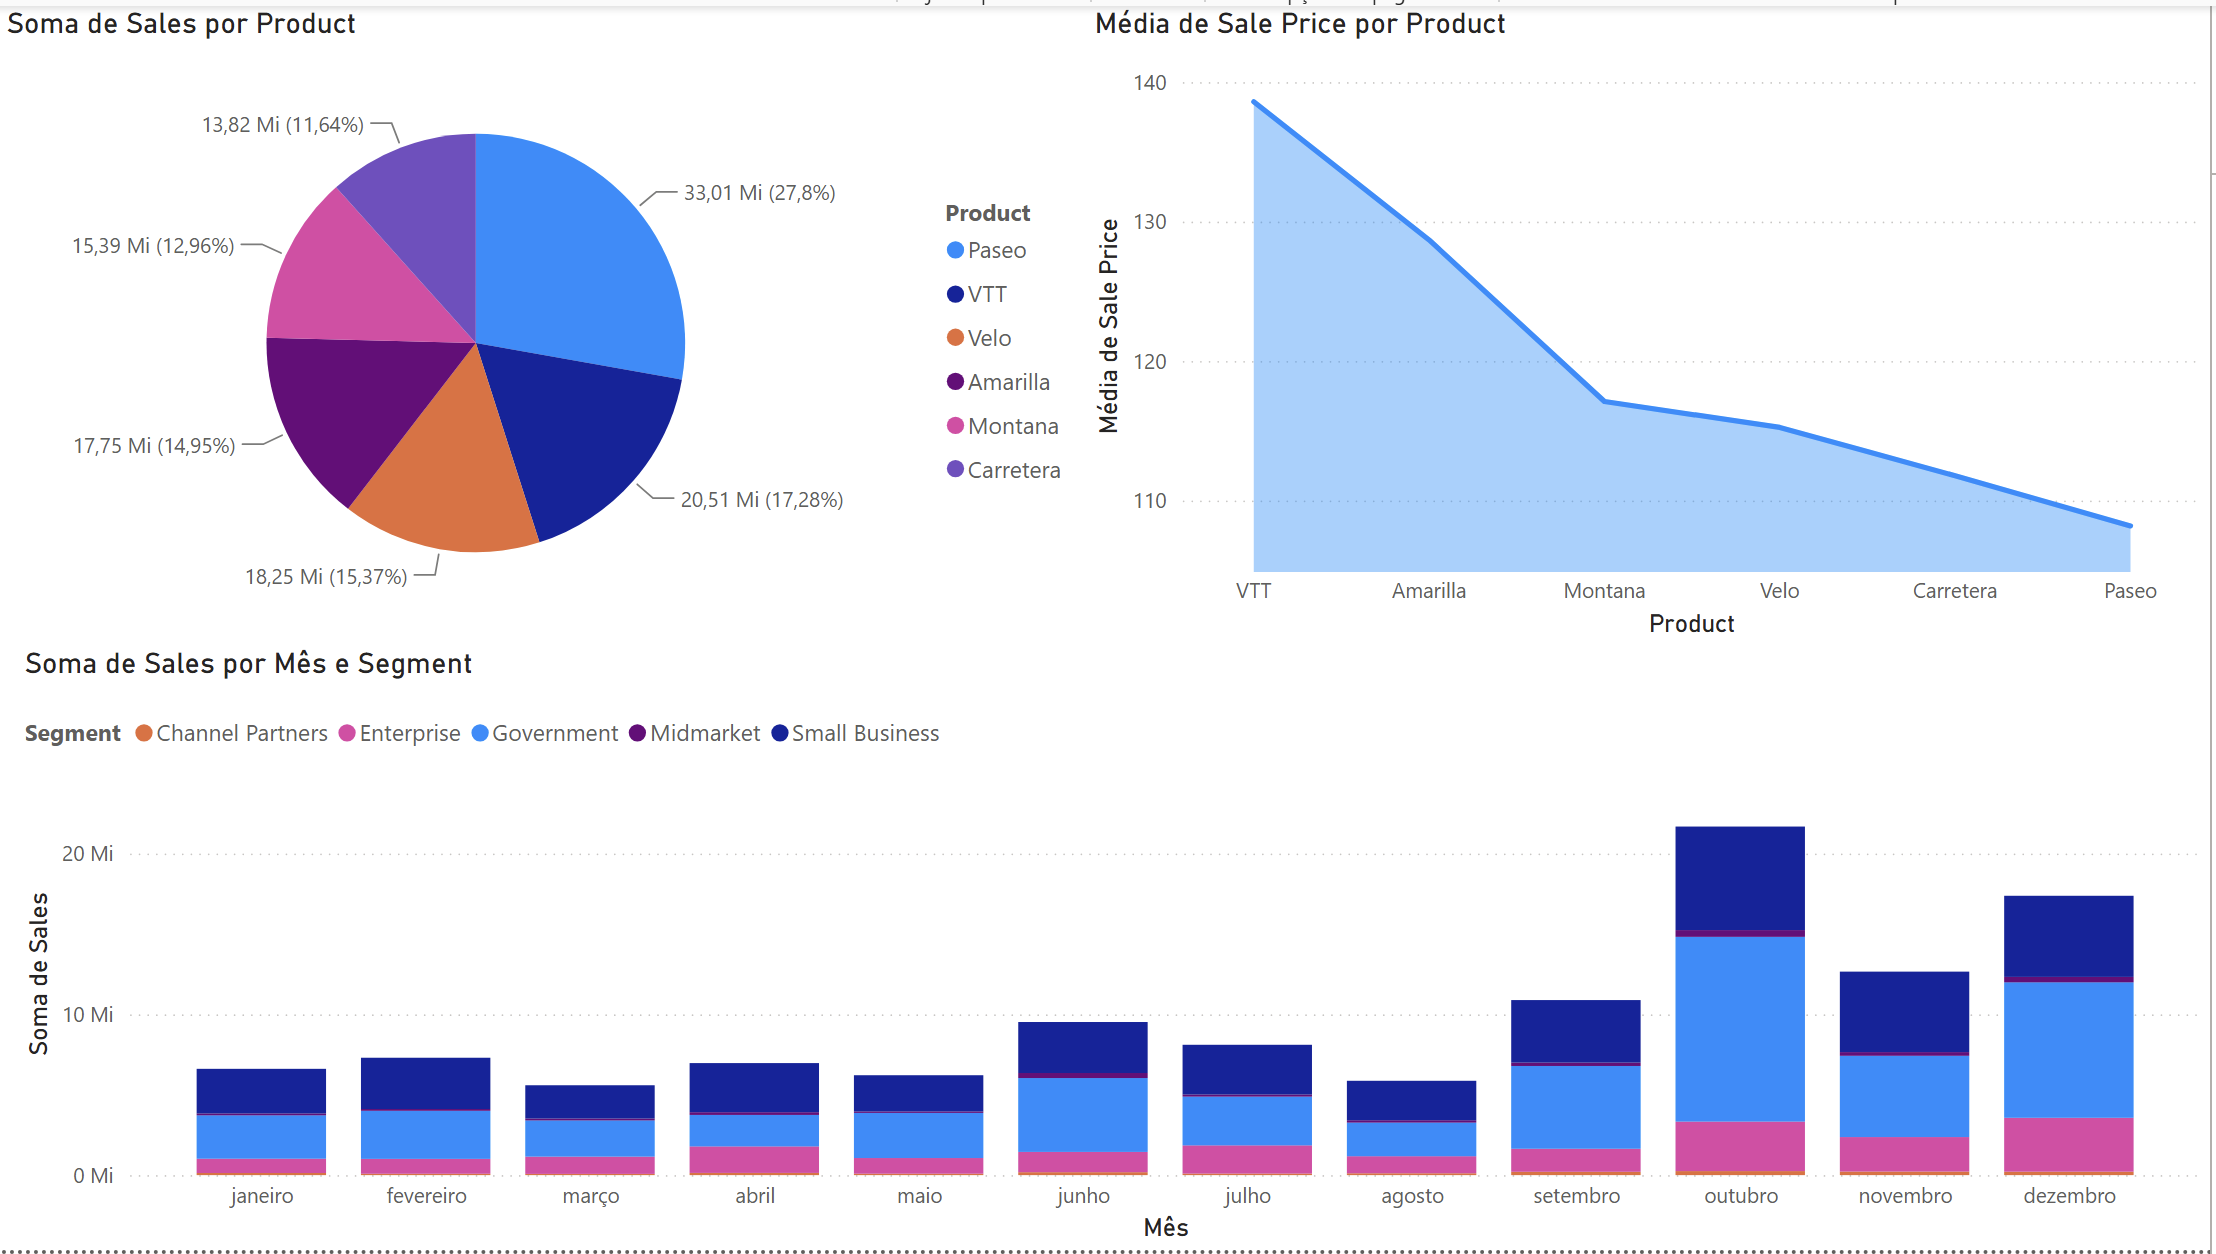

This screenshot's page, from the dashboard's own definition file:
{"tool":"powerbi","page":{"name":"Página 1","canvas":[1280,720],"ordinal":0},"visuals":[{"type":"pieChart","fields":{"Category":["financials.Product"],"Y":["Sum(financials. Sales)"]},"box":[0,0,630,360],"z":0},{"type":"areaChart","fields":{"Category":["financials.Product"],"Y":["Avg(financials.Sale Price)"]},"box":[630,0,650,370],"z":1000},{"type":"columnChart","fields":{"Series":["financials.Segment"],"Y":["Sum(financials. Sales)"],"Category":["financials.Date.Variation.Hierarquia de datas.Mês"]},"box":[10.4,370.3,1269.6,349.5],"z":2000}]}

Visuals, with their boxes in screenshot pixels (x1, y1, x2, y2), scaled from the page's 1280x720 canvas onto the 2216x1254 screenshot:
pieChart - financials.Product x Sum(financials. Sales): l=0, t=0, r=1091, b=627
areaChart - financials.Product x Avg(financials.Sale Price): l=1091, t=0, r=2215, b=644
columnChart - financials.Segment x Sum(financials. Sales): l=18, t=645, r=2215, b=1253
